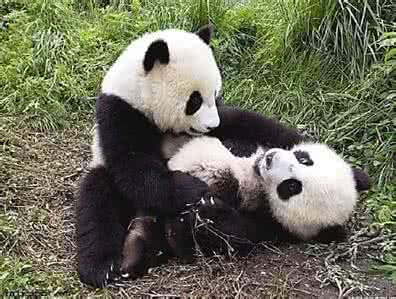panda: (78, 21, 229, 290), (125, 135, 372, 277)
